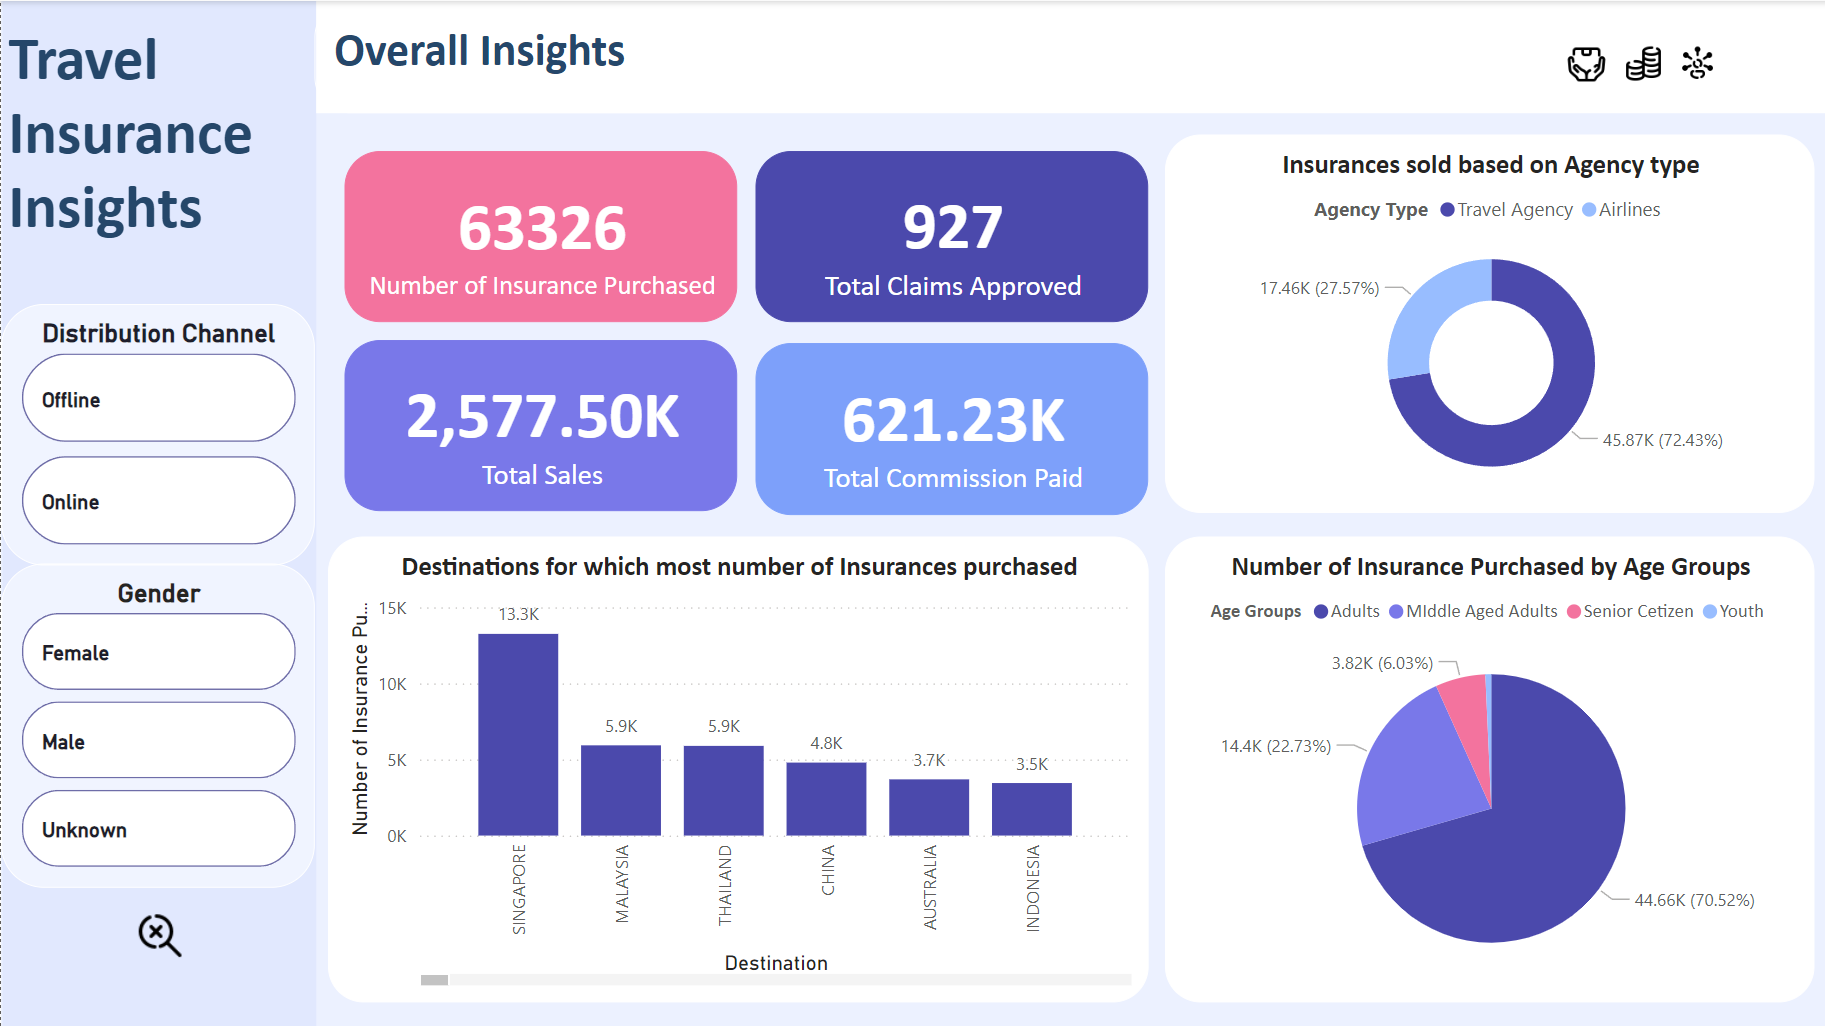

What the dashboard file says about the page in this screenshot:
{"tool":"powerbi","page":{"name":"Overall Insights","canvas":[1280,720],"ordinal":0},"visuals":[{"type":"textbox","box":[220.8,0,1059,78.9],"z":0},{"type":"card","fields":{"Values":["travel insurance dataset.Total Revenue Generated"]},"box":[241.3,237.7,275.6,120],"z":1000},{"type":"card","fields":{"Values":["travel insurance dataset.Total Commission"]},"box":[529,239.8,275.5,120.9],"z":2000},{"type":"card","fields":{"Values":["CountNonNull(travel insurance dataset.Product Name)"]},"box":[240.8,105.2,275.5,119.9],"z":3000},{"type":"card","fields":{"Values":["travel insurance dataset.Total Claims Made"]},"box":[529.1,105.5,275.6,120],"z":4000},{"type":"pieChart","fields":{"Category":["travel insurance dataset.Age Groups"],"Y":["CountNonNull(travel insurance dataset.Product Name)"]},"box":[815.7,375.6,455.6,326.7],"z":5000},{"type":"clusteredColumnChart","title":"Destinations for which most number of Insurances purchased","fields":{"Category":["travel insurance dataset.Destination"],"Y":["CountNonNull(travel insurance dataset.Product Name)"]},"box":[229.1,375.6,575.6,326.7],"z":6000},{"type":"textbox","box":[1.1,0,220,721.1],"z":7000},{"type":"advancedSlicerVisual","fields":{"Values":["travel insurance dataset.Gender"]},"box":[-0.5,394,220.3,227.4],"z":8000},{"type":"advancedSlicerVisual","fields":{"Values":["travel insurance dataset.Distribution Channel"]},"box":[0,212.2,220,183.3],"z":9000},{"type":"donutChart","title":"Insurances sold based on Agency type","fields":{"Category":["travel insurance dataset.Agency Type"],"Y":["CountNonNull(travel insurance dataset.Product Name)"]},"box":[815.7,93.3,455.6,265.6],"z":10000},{"type":"textbox","box":[0,8.9,220,172.2],"z":11000},{"type":"textbox","box":[219.8,0,278.7,78.9],"z":12000},{"type":"image","box":[1131.6,24.2,38.9,40],"z":13000},{"type":"image","box":[1170.5,24.2,37.9,40],"z":14000},{"type":"image","box":[1091.6,24.2,40,40],"z":15000},{"type":"image","box":[86.2,629.9,50.5,50.5],"z":16000}]}

Visuals, with their boxes in screenshot pixels (x1, y1, x2, y2), scaled from the page's 1280x720 canvas onto the 1825x1026 screenshot:
textbox: x1=315 y1=0 x2=1824 y2=112
card - travel insurance dataset.Total Revenue Generated: x1=344 y1=339 x2=737 y2=510
card - travel insurance dataset.Total Commission: x1=754 y1=342 x2=1147 y2=514
card - CountNonNull(travel insurance dataset.Product Name): x1=343 y1=150 x2=736 y2=321
card - travel insurance dataset.Total Claims Made: x1=754 y1=150 x2=1147 y2=321
pieChart - travel insurance dataset.Age Groups x CountNonNull(travel insurance dataset.Product Name): x1=1163 y1=535 x2=1813 y2=1001
"Destinations for which most number of Insurances purchased" clusteredColumnChart: x1=327 y1=535 x2=1147 y2=1001
textbox: x1=2 y1=0 x2=315 y2=1025
advancedSlicerVisual - travel insurance dataset.Gender: x1=0 y1=561 x2=313 y2=885
advancedSlicerVisual - travel insurance dataset.Distribution Channel: x1=0 y1=302 x2=314 y2=564
"Insurances sold based on Agency type" donutChart: x1=1163 y1=133 x2=1813 y2=511
textbox: x1=0 y1=13 x2=314 y2=258
textbox: x1=313 y1=0 x2=711 y2=112
image: x1=1613 y1=34 x2=1669 y2=91
image: x1=1669 y1=34 x2=1723 y2=91
image: x1=1556 y1=34 x2=1613 y2=91
image: x1=123 y1=898 x2=195 y2=970
